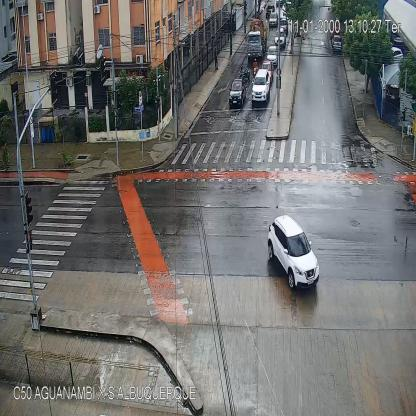car: (268, 215, 322, 288), (246, 21, 267, 56), (252, 70, 270, 102), (228, 78, 245, 106), (274, 28, 286, 47), (279, 17, 288, 33), (332, 35, 342, 49), (270, 12, 278, 26), (266, 6, 274, 16)
motorbike: (238, 64, 245, 79), (253, 58, 257, 76)
person: (213, 48, 219, 71)
